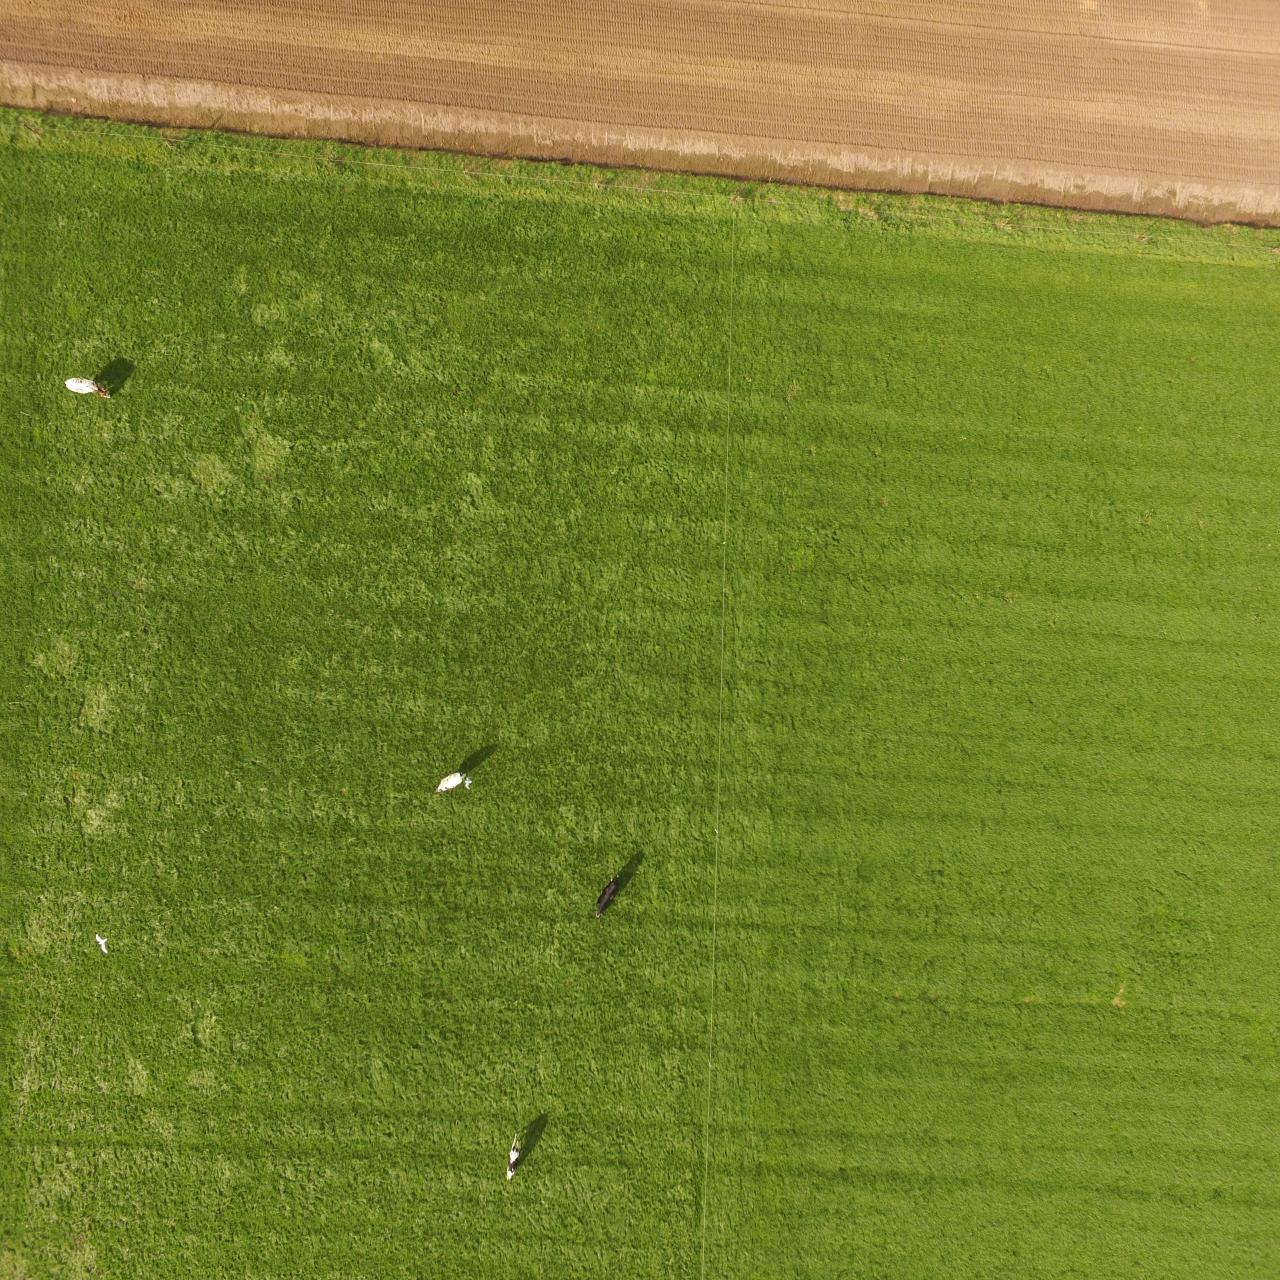cow: (61, 372, 117, 403), (592, 873, 622, 921), (503, 1131, 522, 1182), (435, 771, 467, 794)
